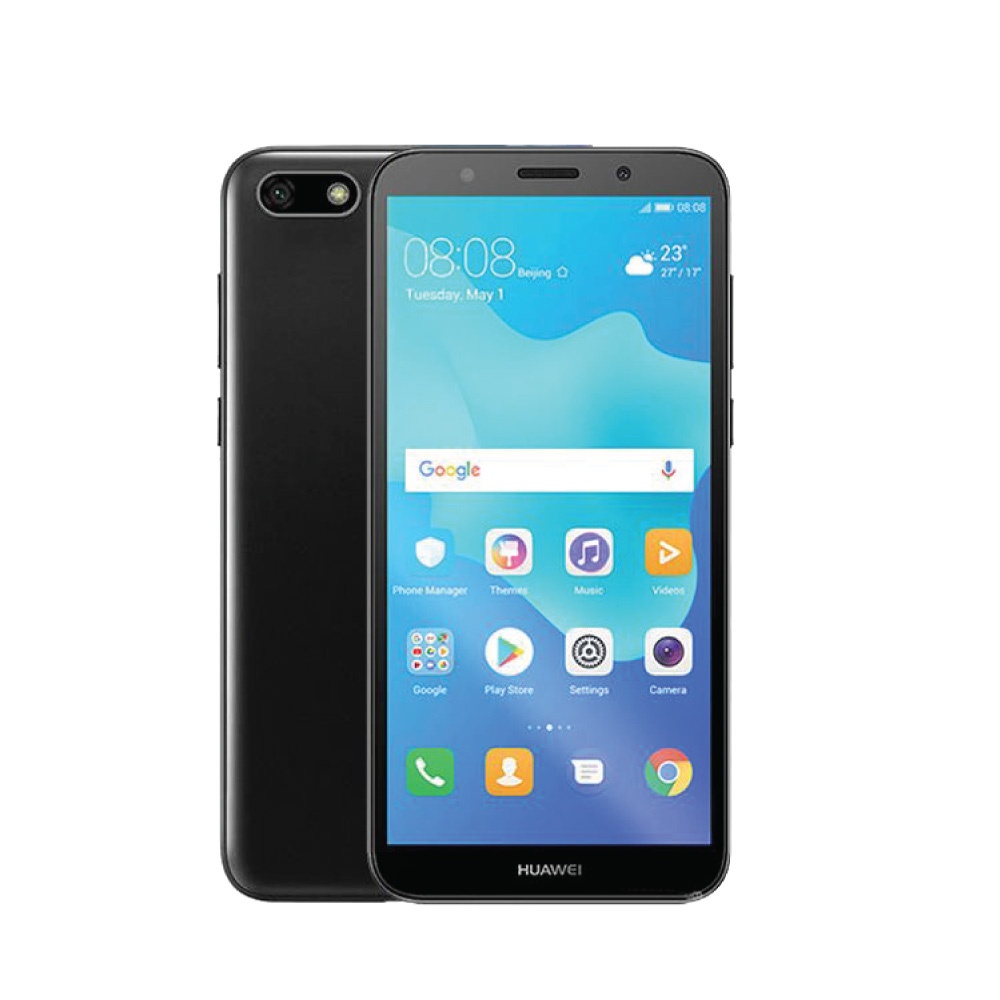phone: (364, 142, 734, 910)
